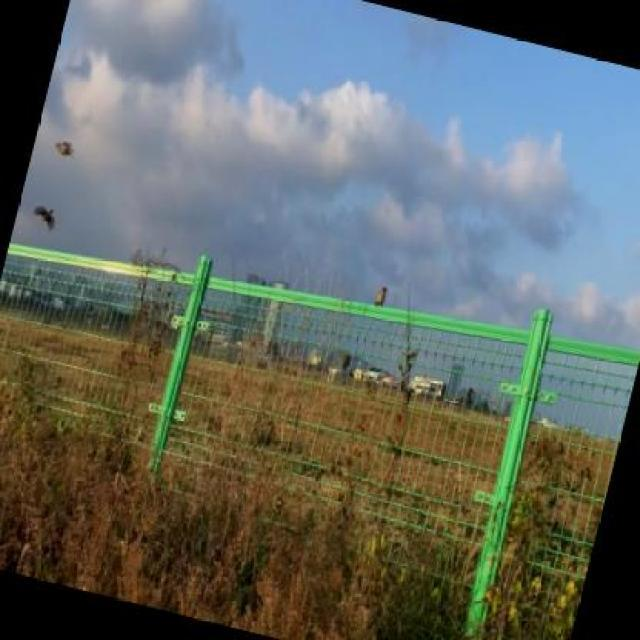Bird: (32, 205, 57, 232), (54, 140, 76, 158), (374, 286, 389, 307)
